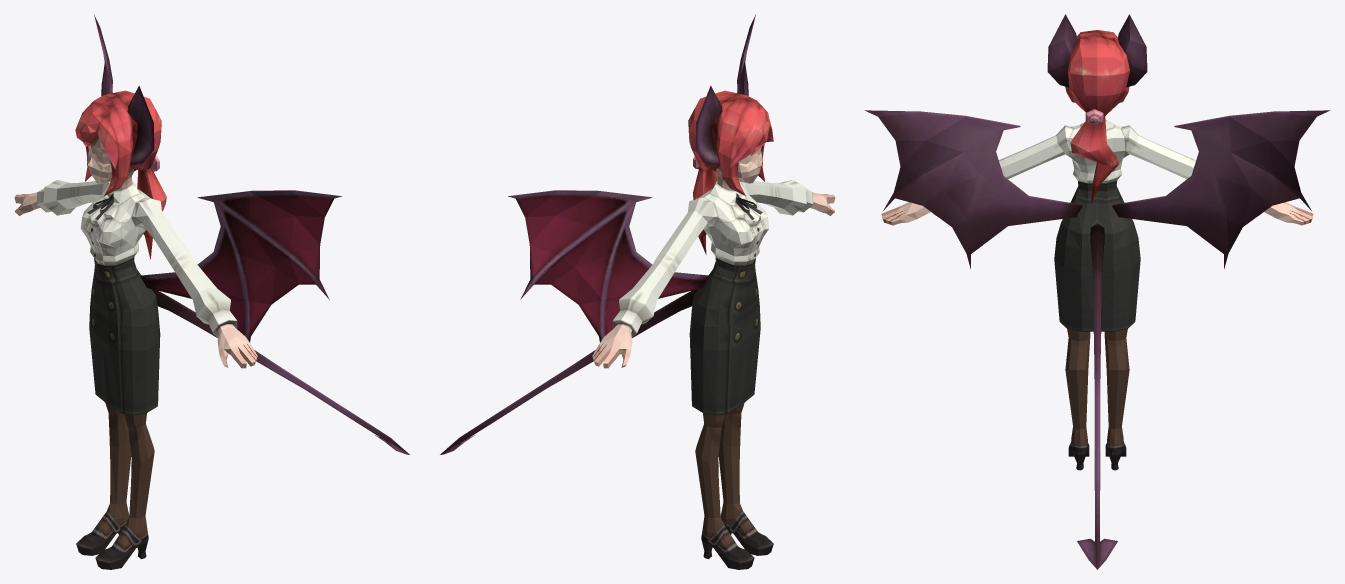
File: Bat_teacher.obj
The picture shows the model from 3 angles, left to right: view 1: azimuth 30°, elevation 25°; view 2: azimuth 150°, elevation 25°; view 3: azimuth 270°, elevation 25°; orthographic projection. The views are drawn at different scales.
Visible parts, largest first — view 1: Bat_teacher_tri; view 2: Bat_teacher_tri; view 3: Bat_teacher_tri.
Part boxes in pixels (<box>): Bat_teacher_tri: <box>14,14,409,569</box>; Bat_teacher_tri: <box>440,14,835,569</box>; Bat_teacher_tri: <box>864,14,1330,569</box>.
Bounding box in the file's own units: 1.26 × 1.77 × 1.67.
Materials: 1 (1 with a texture image).
